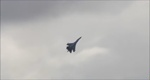maybay_muctieu: (66, 35, 82, 55)
